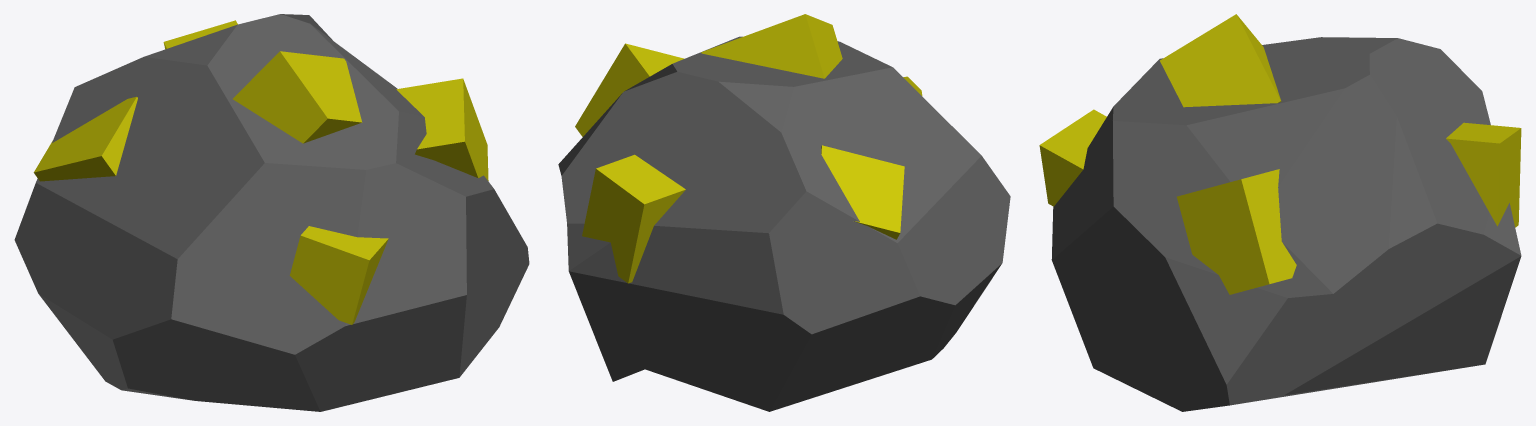
File: gold.ore.fbx
3 renders of one model, left to right at view 1: azimuth 30°, elevation 25°; view 2: azimuth 150°, elevation 25°; view 3: azimuth 270°, elevation 25°, orthographic. The views are drawn at different scales.
Visible parts, largest first — view 1: Sphere, Cube, Cube.002, Cube.004, Cube.001, Cube.003; view 2: Sphere, Cube.003, Cube, Cube.001, Cube.004; view 3: Sphere, Cube.004, Cube, Cube.003, Cube.002.
Part boxes in pixels (x1,y1,x2,y2): Sphere: (14, 14, 529, 411); Cube: (233, 51, 362, 143); Cube.002: (289, 226, 388, 324); Cube.004: (396, 78, 488, 180); Cube.001: (33, 96, 137, 181); Cube.003: (163, 20, 237, 49); Sphere: (558, 36, 1010, 411); Cube.003: (582, 154, 685, 283); Cube: (701, 14, 842, 78); Cube.001: (821, 145, 904, 239); Cube.004: (575, 43, 684, 136); Sphere: (1051, 37, 1521, 411); Cube.004: (1177, 169, 1296, 294); Cube: (1160, 14, 1281, 107); Cube.003: (1446, 122, 1521, 227); Cube.002: (1039, 109, 1106, 206).
Size of the model in its own units: 675 by 453 by 631.
